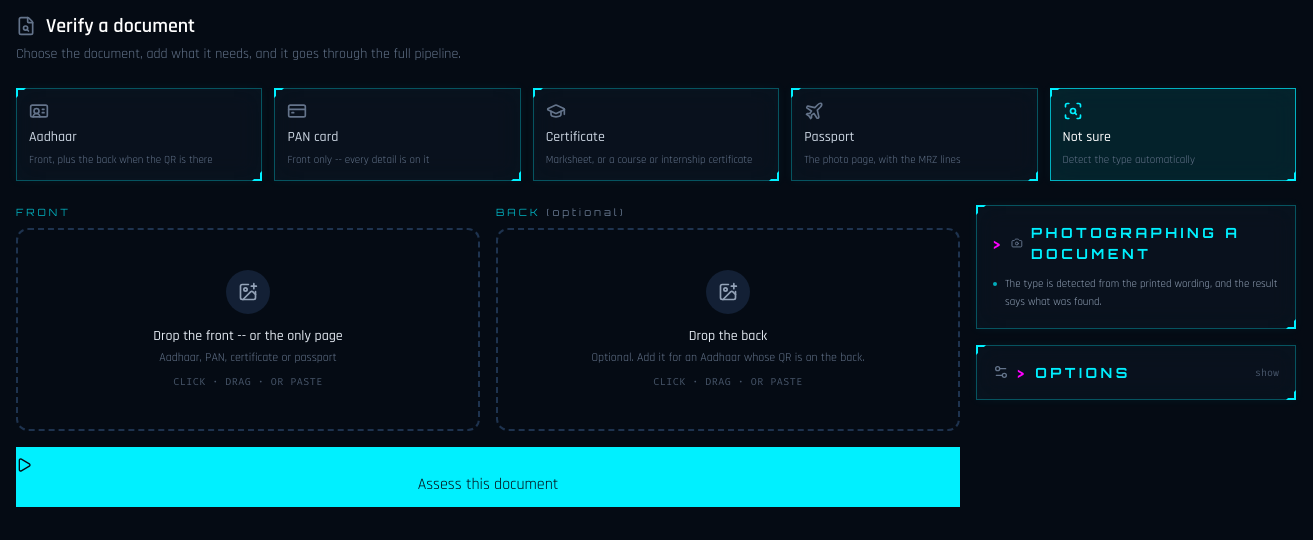
Test: a PAN card is asked for its front only
The image size is (1313, 540).
Click the button "PAN card Front only -- every detail is on it".
click(398, 135)  # box [274,88,521,181]
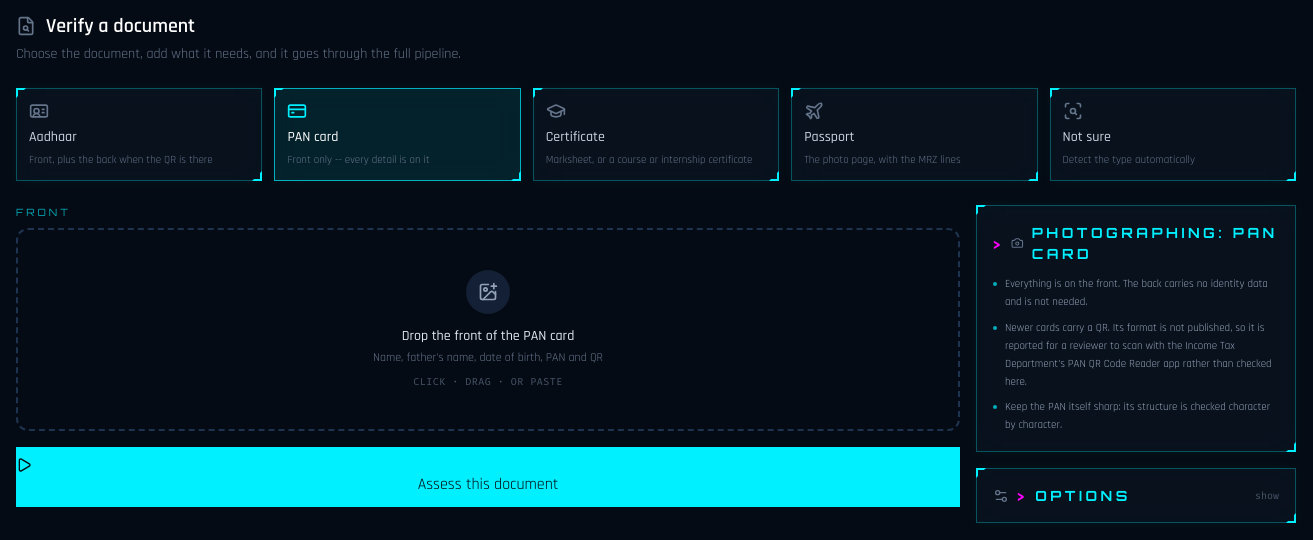
Expected: the list item "back carries no identity data" is shown, [1005,277,1268,309]
